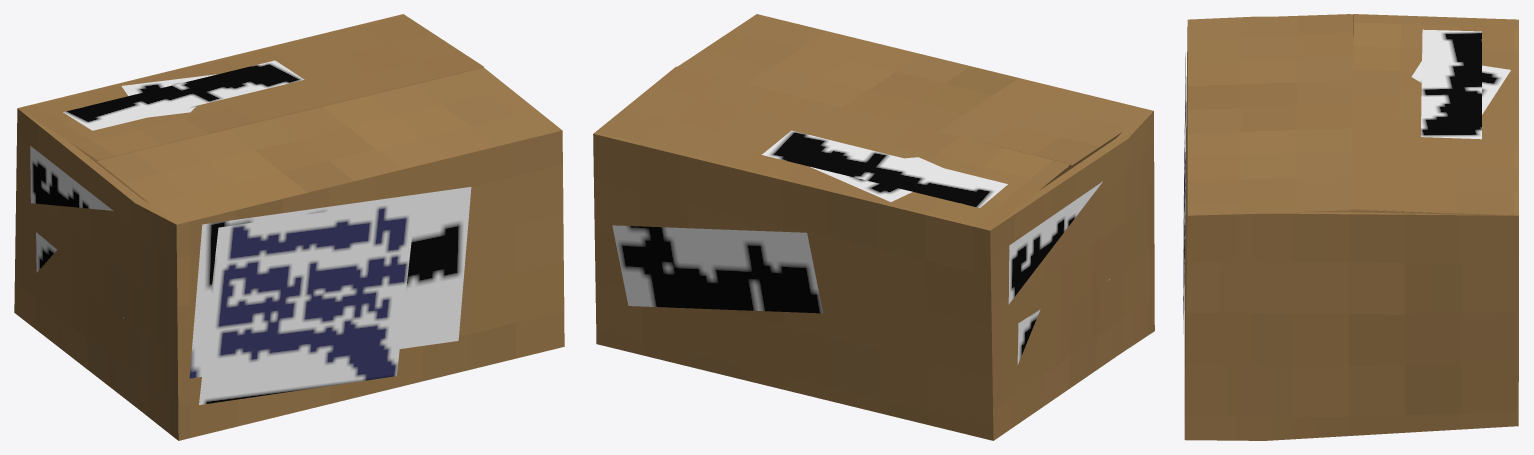
Rendered from MB_Documents.fbx.
3 renders of one model, left to right at view 1: azimuth 30°, elevation 25°; view 2: azimuth 150°, elevation 25°; view 3: azimuth 270°, elevation 25°, orthographic. The views are drawn at different scales.
Parts seen in each view (by area): view 1: MovingBox_Closed_6, MovingBox_Closed_5, MovingBox_Closed_3, MovingBox_Closed_4; view 2: MovingBox_Closed_6, MovingBox_Closed_5, MovingBox_Closed_4, MovingBox_Closed_3; view 3: MovingBox_Closed_6, MovingBox_Closed_5, MovingBox_Closed_3.
Part boxes in pixels (x1,y1,x2,y2): MovingBox_Closed_6: (14,68,564,440); MovingBox_Closed_5: (18,14,483,378); MovingBox_Closed_3: (42,74,416,404); MovingBox_Closed_4: (30,121,113,272); MovingBox_Closed_6: (593,14,1154,440); MovingBox_Closed_5: (593,66,1069,230); MovingBox_Closed_4: (1008,165,1102,364); MovingBox_Closed_3: (810,142,1106,216); MovingBox_Closed_6: (1184,14,1518,440); MovingBox_Closed_5: (1183,14,1518,333); MovingBox_Closed_3: (1183,14,1510,319).
Size of the model in its own units: 36.49 by 19.69 by 25.9.
2 materials, 2 textured.
